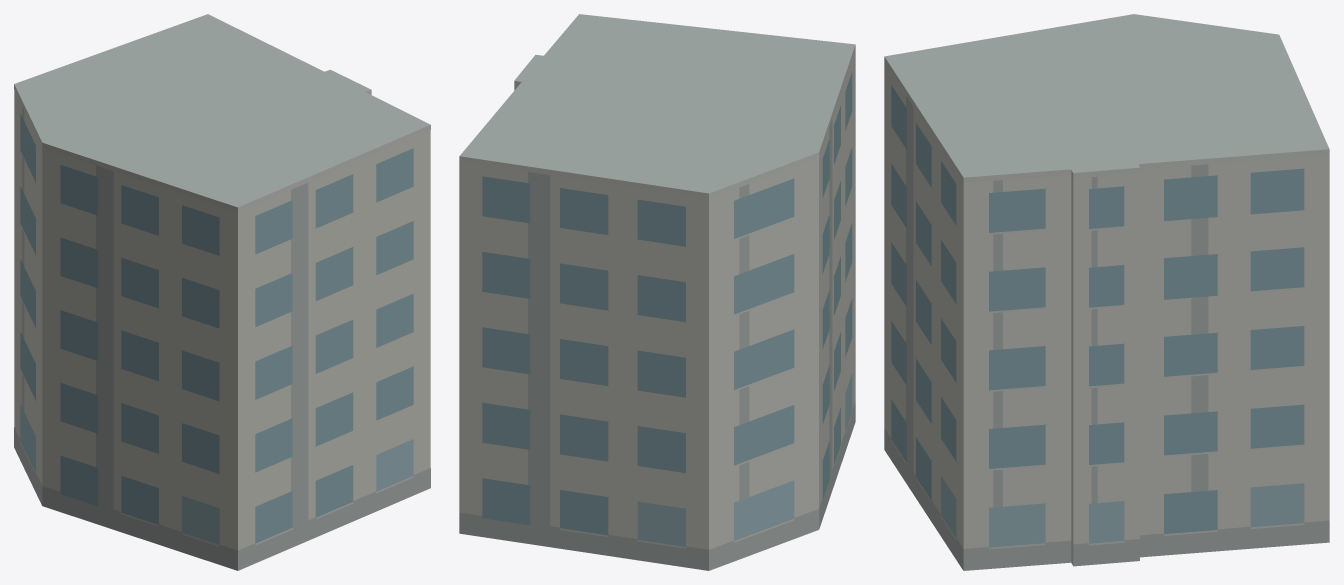
File: survey-upis-32899818.glb
3 renders of one model, left to right at view 1: azimuth 30°, elevation 25°; view 2: azimuth 150°, elevation 25°; view 3: azimuth 270°, elevation 25°, orthographic. The views are drawn at different scales.
Visible parts, largest first — view 1: survey-upis-32899818.tmp; view 2: survey-upis-32899818.tmp; view 3: survey-upis-32899818.tmp.
Boxes of the visible parts, x1,y1,x2,y2 form: survey-upis-32899818.tmp: [14, 14, 430, 570]; survey-upis-32899818.tmp: [459, 14, 855, 570]; survey-upis-32899818.tmp: [884, 14, 1329, 570].
Bounding box in the file's own units: 15.31 × 17.16 × 17.62.
